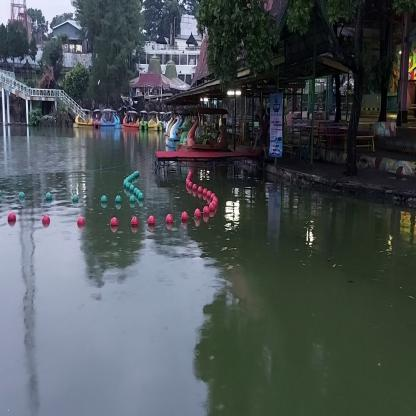green_buoy: (20, 191, 26, 204), (72, 193, 80, 202), (46, 192, 52, 202), (130, 195, 134, 208), (102, 196, 107, 206), (116, 195, 120, 206), (139, 193, 143, 203)
red_buoy: (148, 214, 156, 228), (181, 210, 188, 224), (130, 216, 138, 227), (166, 213, 173, 225), (111, 216, 118, 228), (8, 213, 16, 223), (42, 216, 51, 223), (77, 218, 84, 226), (194, 209, 199, 220), (204, 208, 209, 217)
